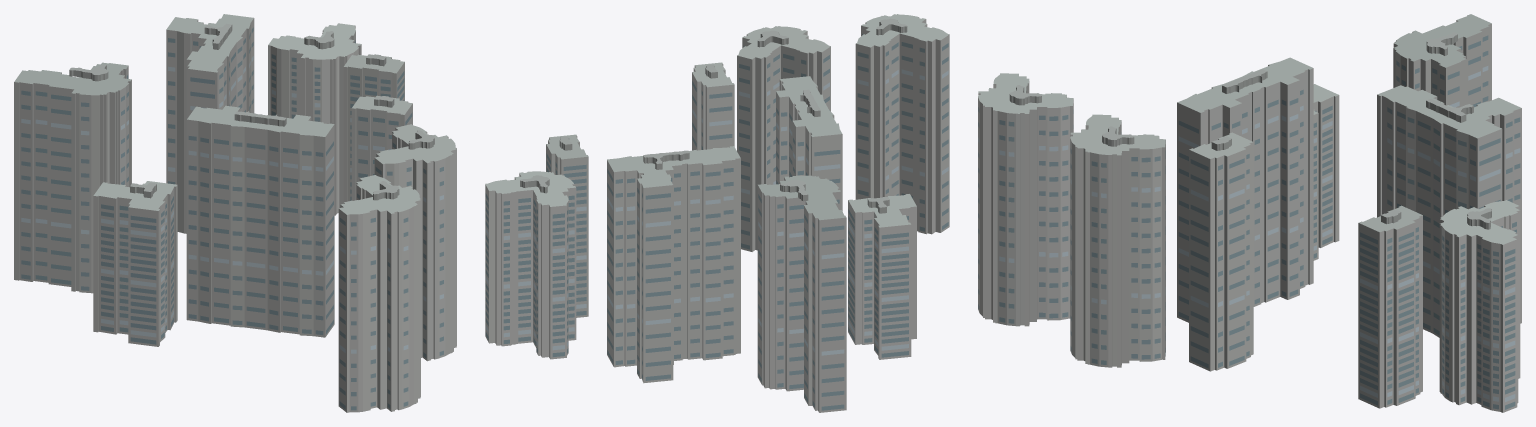
File: apt-a13817001.glb
The picture shows the model from 3 angles, left to right: view 1: azimuth 30°, elevation 25°; view 2: azimuth 150°, elevation 25°; view 3: azimuth 270°, elevation 25°; orthographic projection. The views are drawn at different scales.
Parts seen in each view (by area): view 1: apt-a13817001; view 2: apt-a13817001; view 3: apt-a13817001.
Part boxes in pixels (left/top/right/bottom): apt-a13817001: left=14, top=14, right=456, bottom=412; apt-a13817001: left=485, top=14, right=949, bottom=412; apt-a13817001: left=978, top=14, right=1521, bottom=412.
Size of the model in its own units: 144 by 80 by 178.
